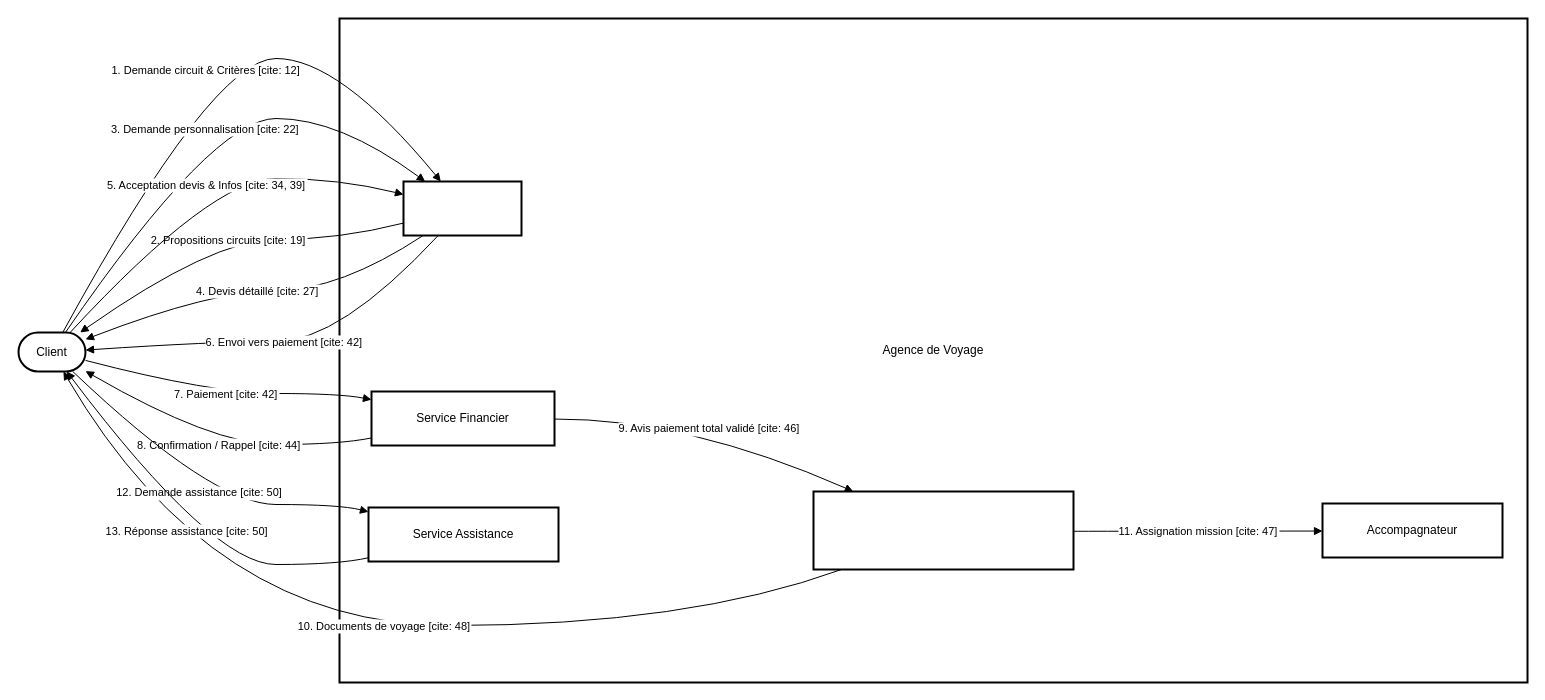
Image size: 1545x700. Some labels were removed from this diagram. Here are the shapes that lost their labels. From the top down, the box of each, then its label:
(402, 180, 522, 236): Vendeur
(812, 490, 1074, 570): Service Réservation/Logistique
